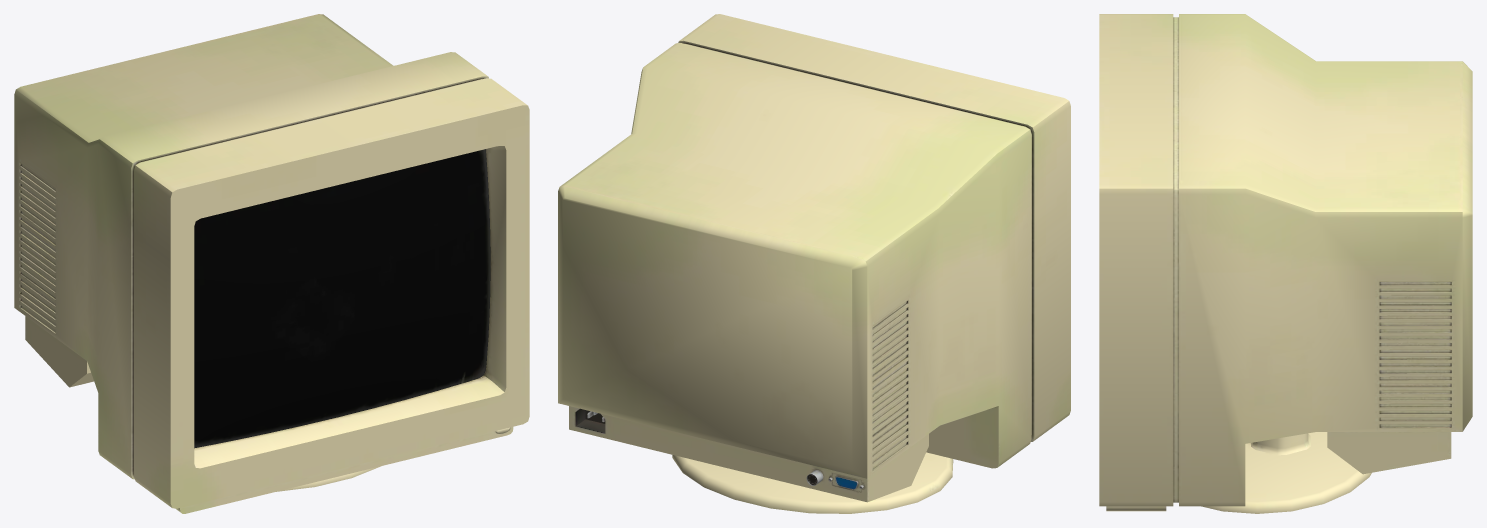
The model's file is monitor-transformed.glb.
3 renders of one model, left to right at view 1: azimuth 30°, elevation 25°; view 2: azimuth 150°, elevation 25°; view 3: azimuth 270°, elevation 25°, orthographic.
Visible parts, largest first — view 1: Box001__0; view 2: Box001__0; view 3: Box001__0.
Boxes of the visible parts, x1,y1,x2,y2 form: Box001__0: (14,14,529,513); Box001__0: (558,14,1070,513); Box001__0: (1099,14,1472,513).
Bounding box in the file's own units: 83.3 × 77.31 × 74.6.
1 material, 1 textured.
